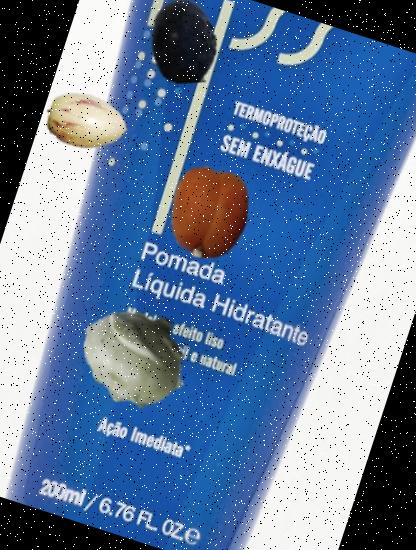Apricot: (151, 156, 267, 272)
Blueberry: (130, 0, 237, 94)
Kohlrabi: (63, 283, 208, 428)
Pepino: (35, 70, 138, 174)
